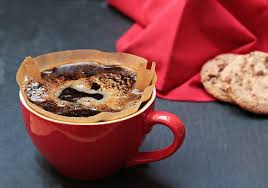cup: (13, 47, 187, 185)
